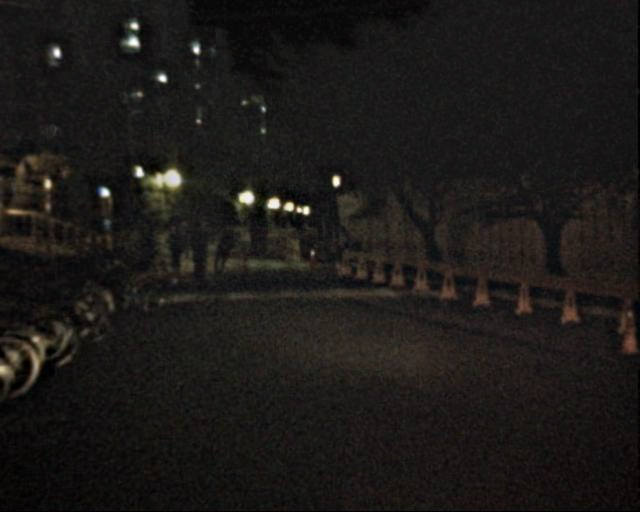person: (191, 220, 214, 277), (139, 219, 160, 269), (213, 229, 233, 277), (166, 223, 185, 270), (179, 214, 197, 259), (333, 227, 351, 272), (245, 222, 260, 259), (254, 223, 269, 259)
